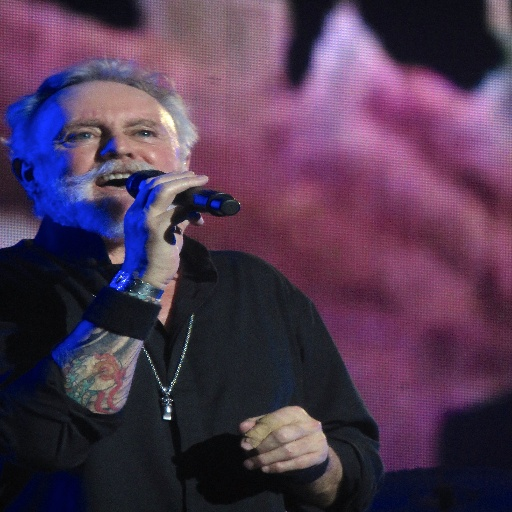hand: (101, 173, 203, 290), (237, 405, 329, 473)
